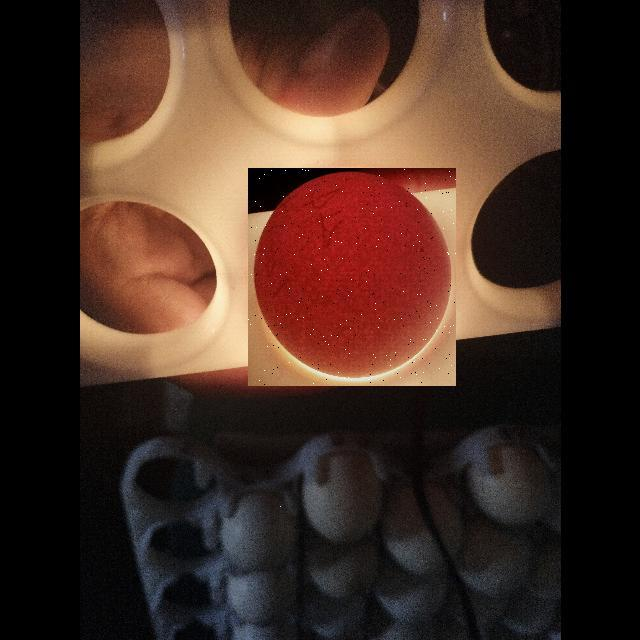Infertile: (248, 168, 456, 386)
